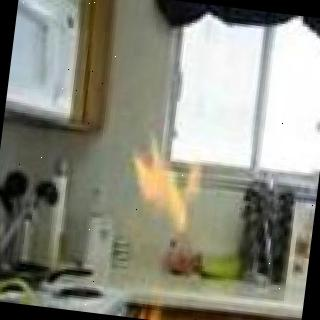fire: (124, 133, 223, 246), (103, 293, 242, 320)
